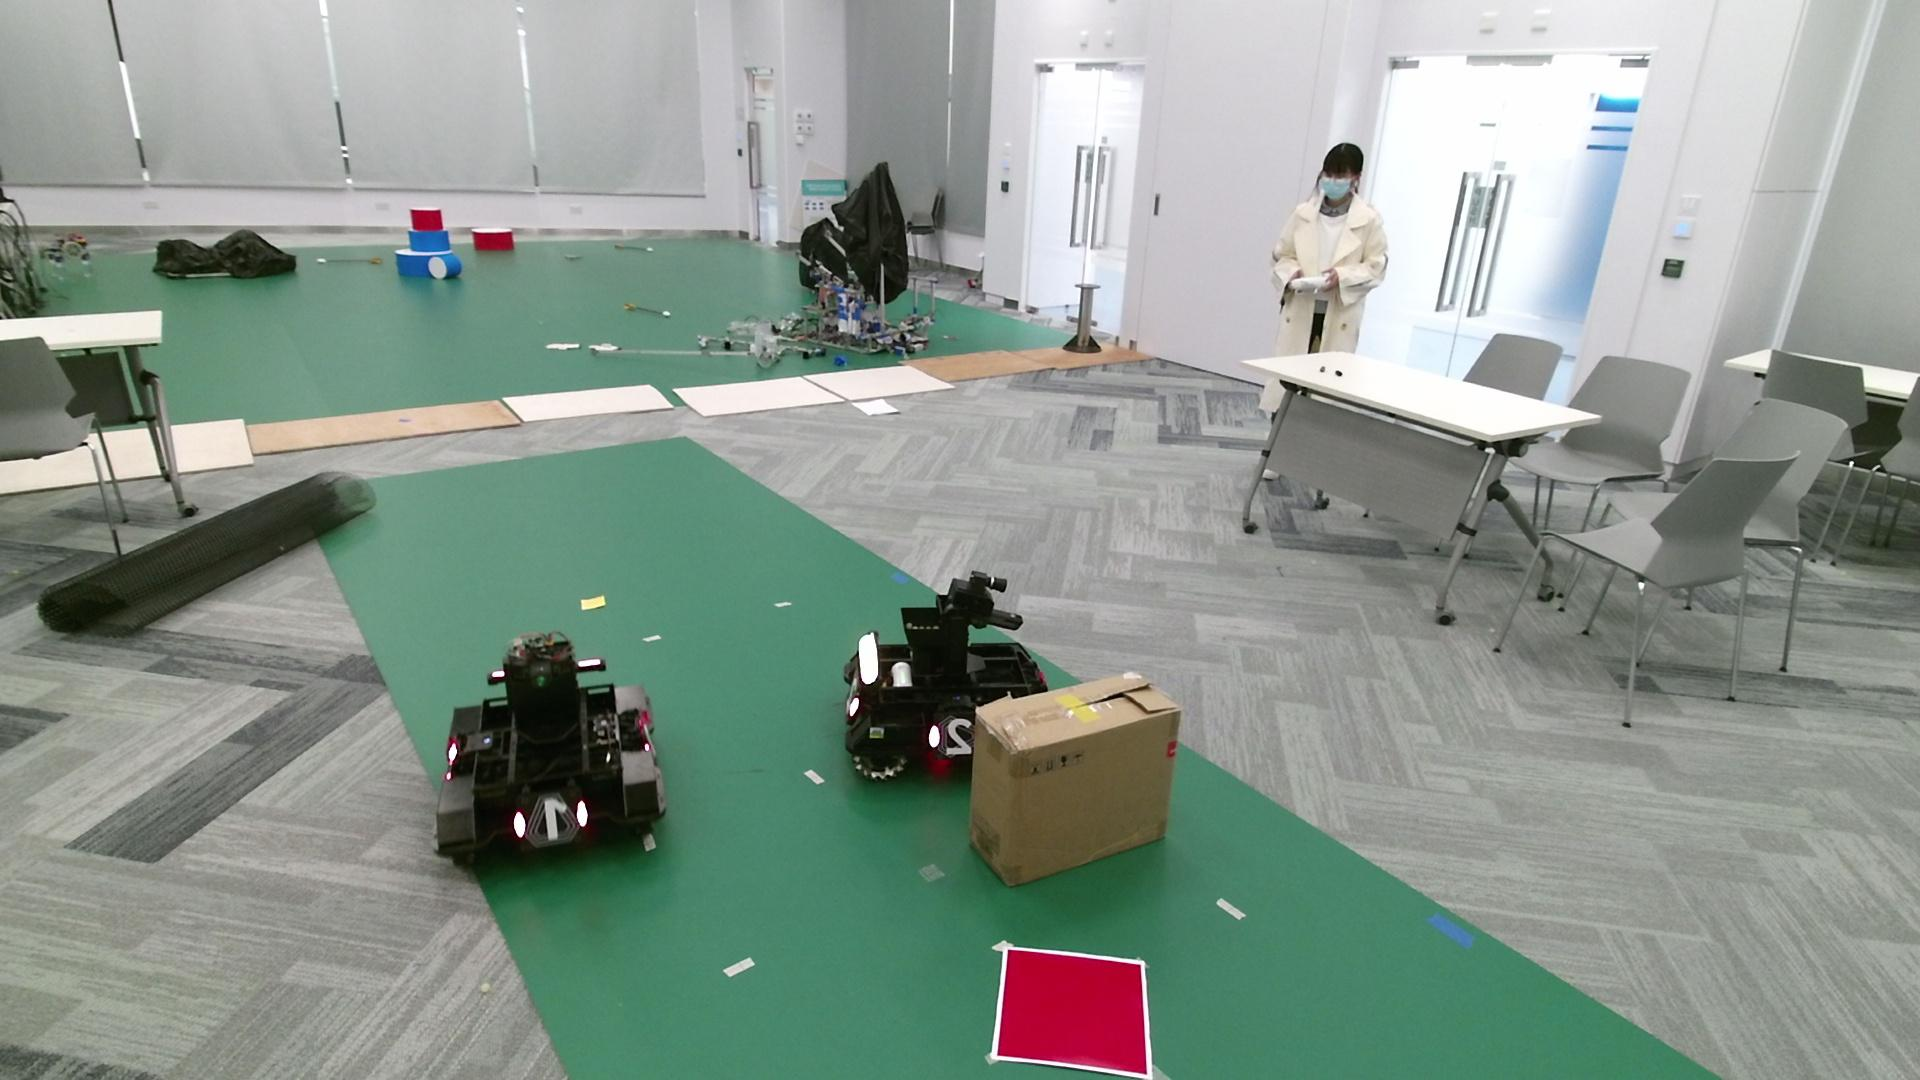robot: (436, 629, 666, 869), (844, 570, 1050, 781)
